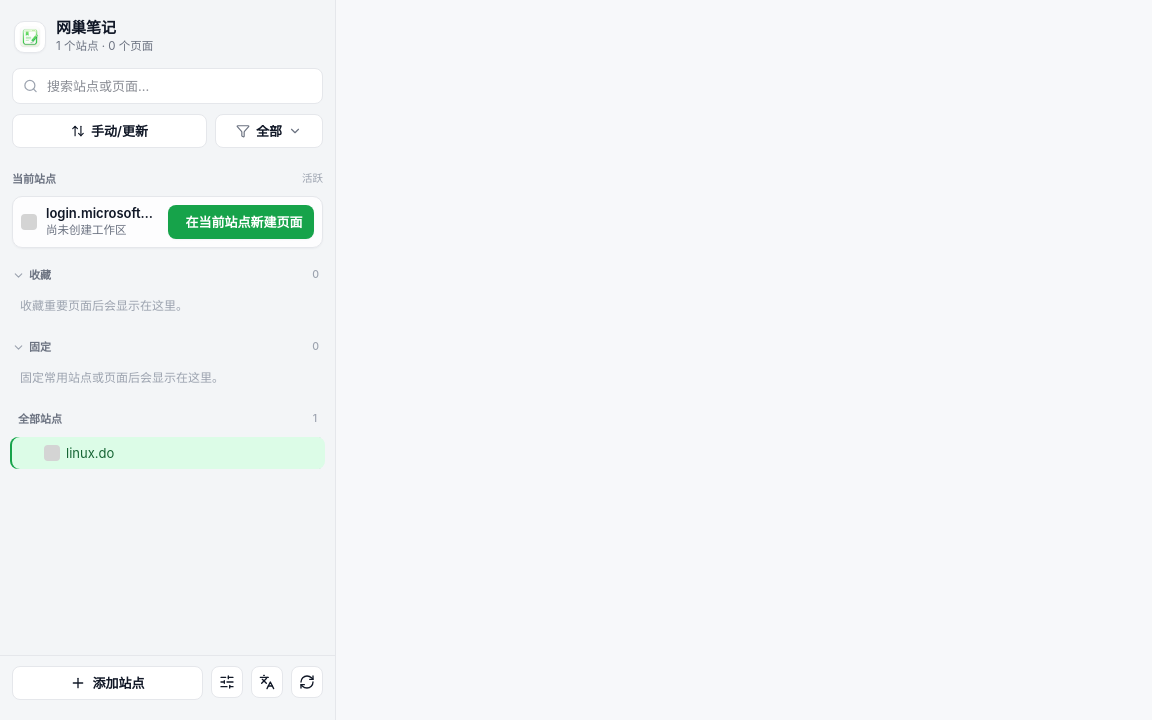
Test: Sidebar current site entry › opens a styled add-site dialog instead of the browser prompt
Click the button "添加站点" at (108, 683), box [12,666,203,700]
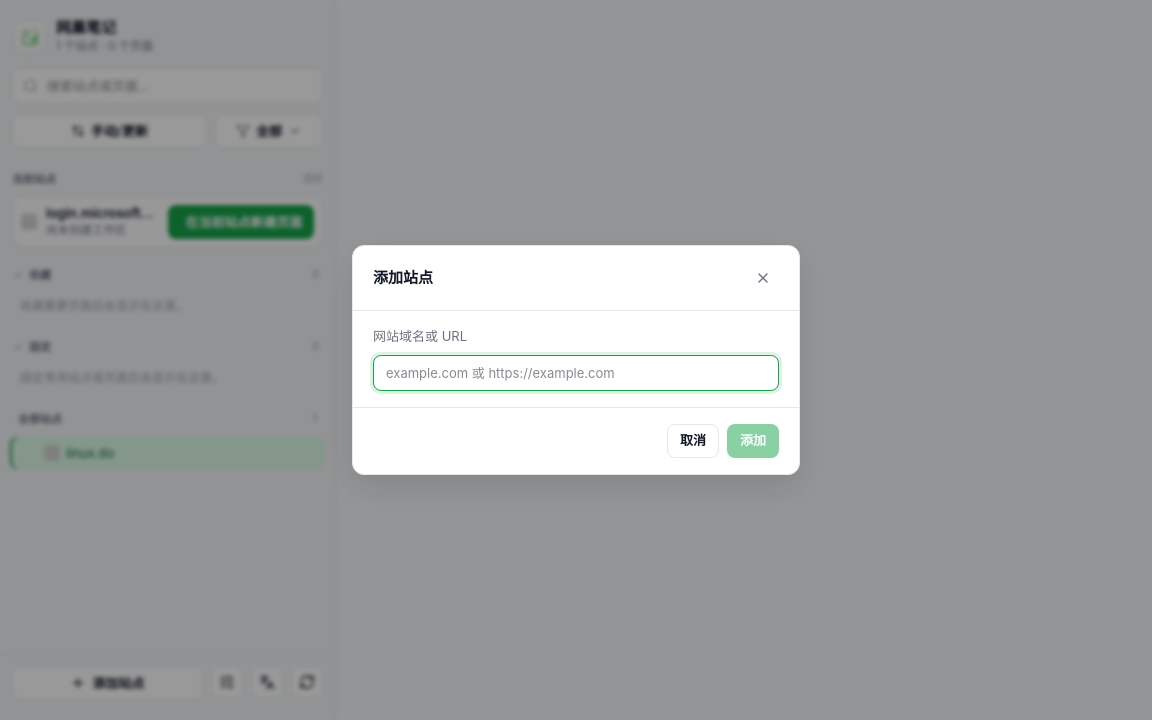
Check: the heading "添加站点" is shown, box [373,267,433,290]
Check: the field with placeholder "example.com 或 https://example.com" is shown, box [373,355,779,391]
